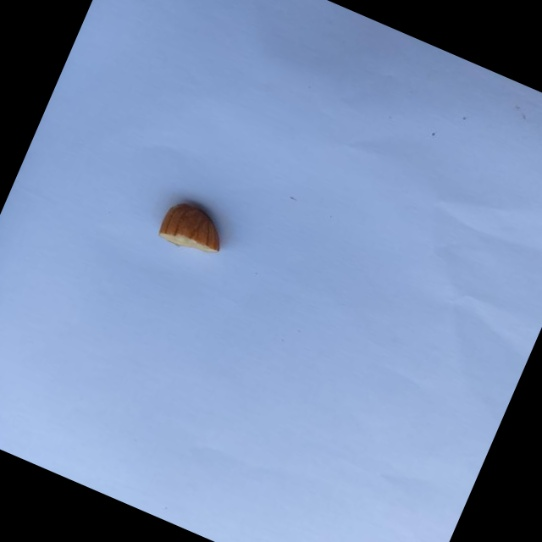grade4: (149, 189, 241, 268)
